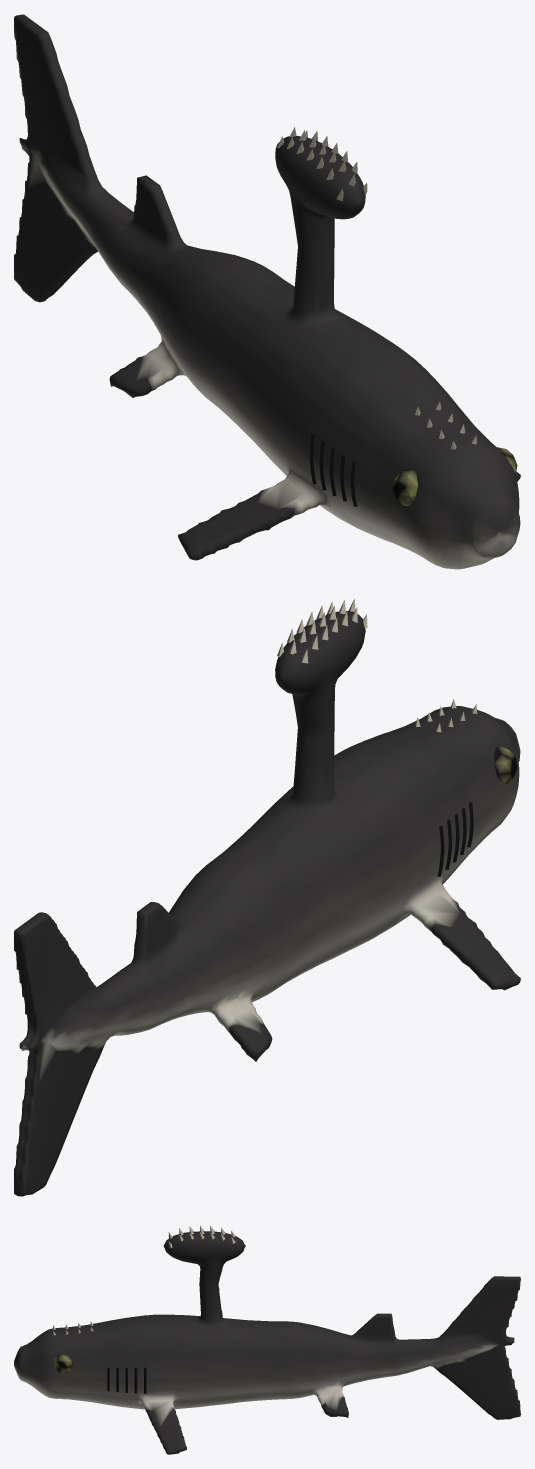
Rendered from Akmonistion.fbx.
3 views of the same model, one above another, from view 1: azimuth 30°, elevation 25°; view 2: azimuth 150°, elevation 25°; view 3: azimuth 270°, elevation 25° (orthographic). The views are drawn at different scales.
Visible parts, largest first — view 1: Akmonistion; view 2: Akmonistion; view 3: Akmonistion.
Part boxes in pixels (x1,y1,x2,y2): Akmonistion: (14,14,520,569); Akmonistion: (14,599,520,1196); Akmonistion: (14,1226,520,1454).
Size of the model in its own units: 0.4766 by 0.5071 by 1.21.
